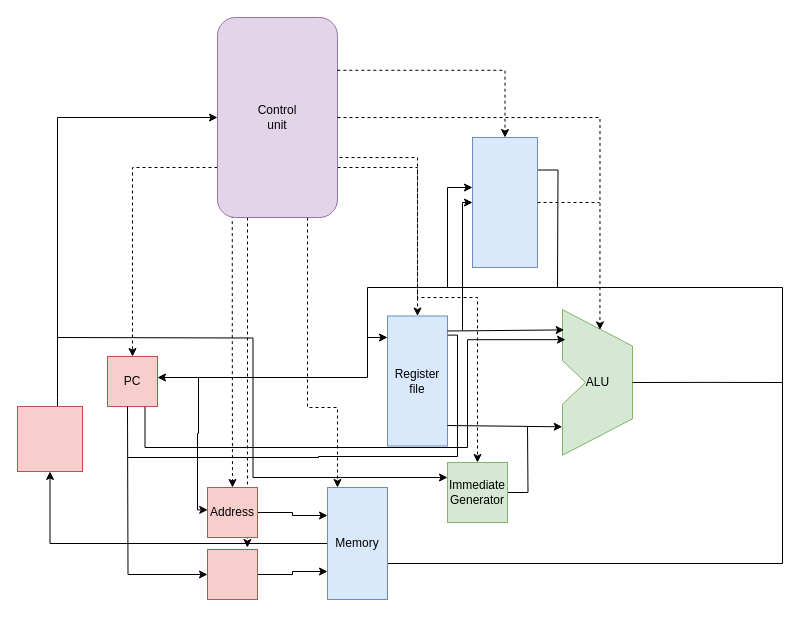
Image size: 808x617. Some labels were removed from this diagram. Each missing label, with the box of its shape:
CSR file: (472, 136, 538, 268)
Data: (206, 548, 258, 600)
I nstruction: (16, 406, 82, 472)
